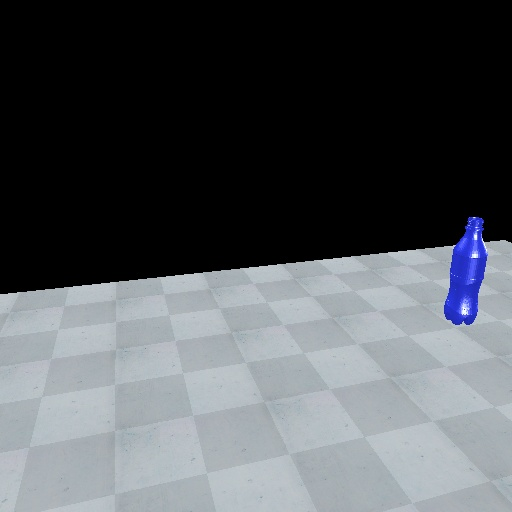bottle: (441, 216, 490, 328)
